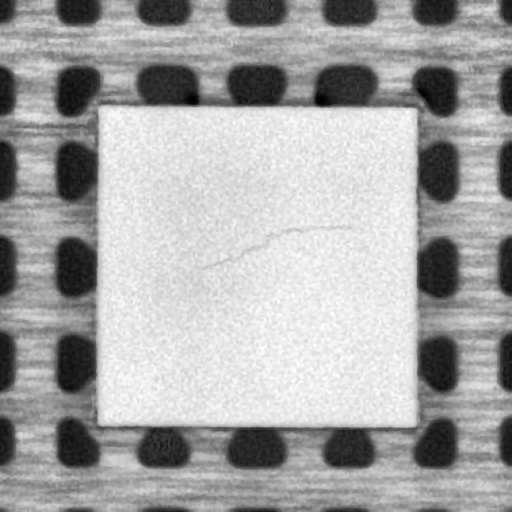DIE_CRACK: (206, 220, 352, 265)
